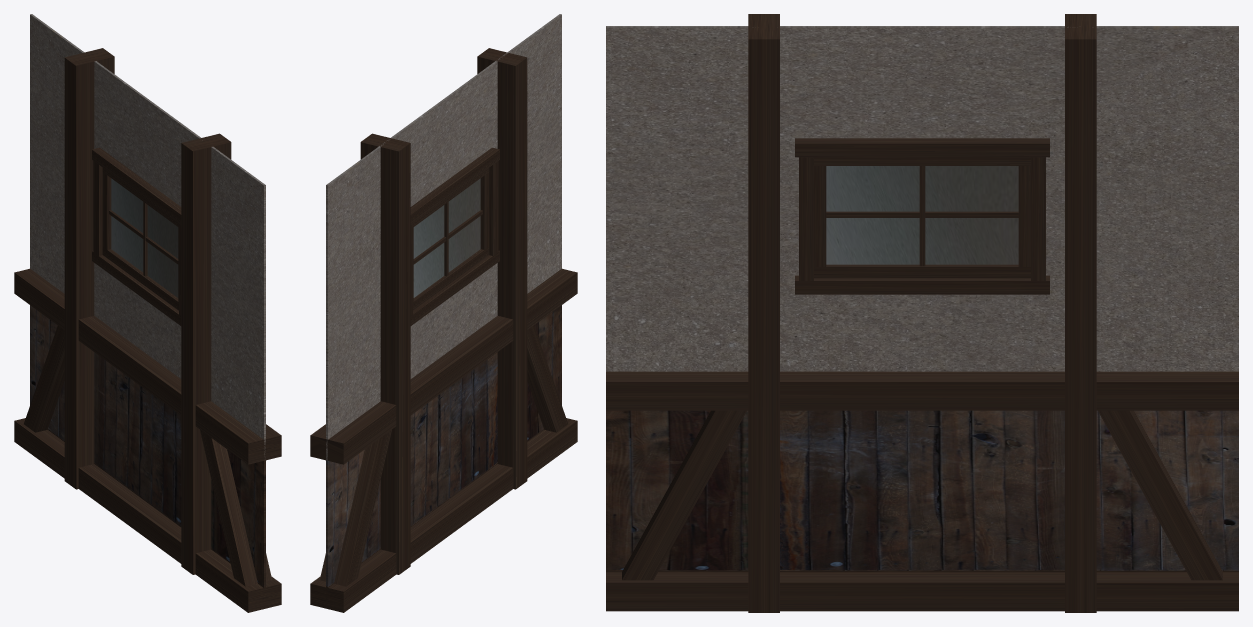
Rendered from OutdoorArchitecture_BasicWall01_Window03_NoEdges_BShortt.fbx.
3 renders of one model, left to right at view 1: azimuth 30°, elevation 25°; view 2: azimuth 150°, elevation 25°; view 3: azimuth 270°, elevation 25°, orthographic. The views are drawn at different scales.
Parts seen in each view (by area): view 1: OutdoorArchitecture_BasicWall01_Window03_NoEdges_BShortt; view 2: OutdoorArchitecture_BasicWall01_Window03_NoEdges_BShortt; view 3: OutdoorArchitecture_BasicWall01_Window03_NoEdges_BShortt.
Part boxes in pixels (<box>): OutdoorArchitecture_BasicWall01_Window03_NoEdges_BShortt: <box>14,14,281,612</box>; OutdoorArchitecture_BasicWall01_Window03_NoEdges_BShortt: <box>310,14,577,612</box>; OutdoorArchitecture_BasicWall01_Window03_NoEdges_BShortt: <box>606,14,1238,612</box>.
Bounding box in the file's own units: 28.5 × 300 × 300.
